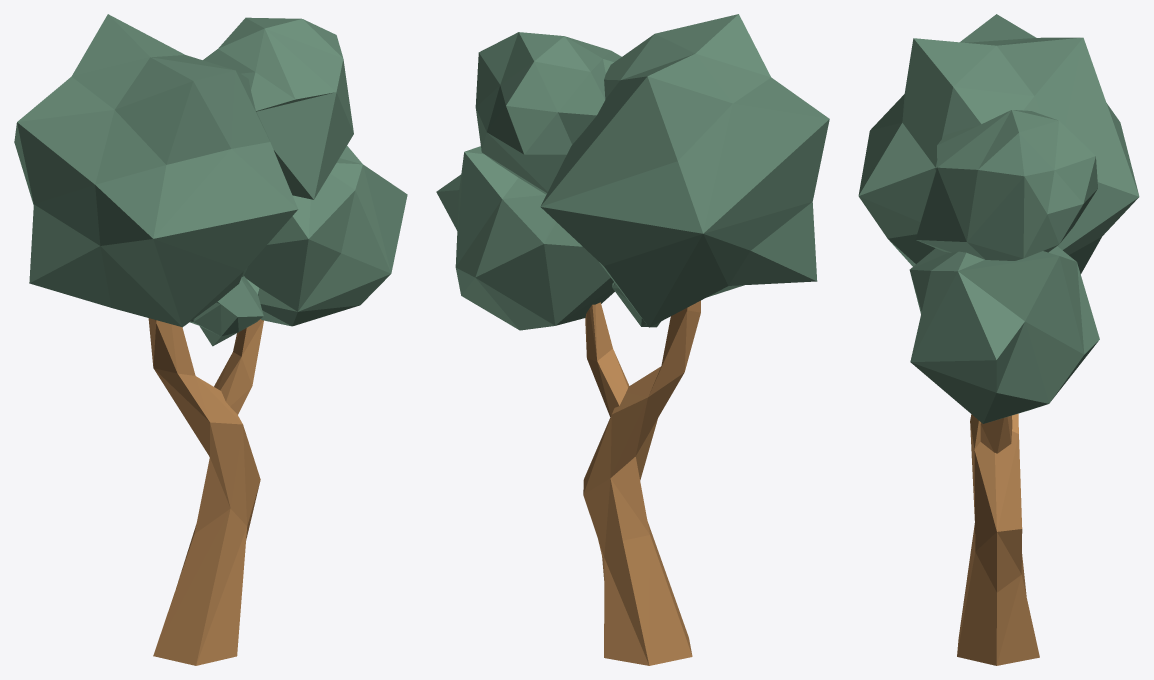
Rendered from tree3.fbx.
The picture shows the model from 3 angles, left to right: view 1: azimuth 30°, elevation 25°; view 2: azimuth 150°, elevation 25°; view 3: azimuth 270°, elevation 25°; orthographic projection. The views are drawn at different scales.
Parts seen in each view (by area): view 1: Leaves_4, Trunk, Leaves_3, Leaves, Leaves_2, Trunk_2; view 2: Leaves_4, Trunk, Leaves_3, Leaves, Trunk_2; view 3: Leaves_4, Leaves_3, Leaves, Trunk, Trunk_2.
Boxes of the visible parts, bbox=[...] form: Leaves_4: bbox=[14, 14, 298, 327]; Trunk: bbox=[148, 318, 260, 665]; Leaves_3: bbox=[244, 146, 407, 326]; Leaves: bbox=[203, 17, 353, 199]; Leaves_2: bbox=[190, 276, 263, 346]; Trunk_2: bbox=[214, 319, 263, 414]; Leaves_4: bbox=[540, 14, 829, 327]; Trunk: bbox=[583, 300, 700, 665]; Leaves_3: bbox=[436, 146, 614, 330]; Leaves: bbox=[475, 32, 621, 194]; Trunk_2: bbox=[585, 302, 629, 416]; Leaves_4: bbox=[858, 14, 1139, 274]; Leaves_3: bbox=[909, 246, 1099, 423]; Leaves: bbox=[915, 110, 1097, 260]; Trunk: bbox=[957, 413, 1039, 665]; Trunk_2: bbox=[980, 415, 1012, 453].
Size of the model in its own units: 248 by 370 by 160.
